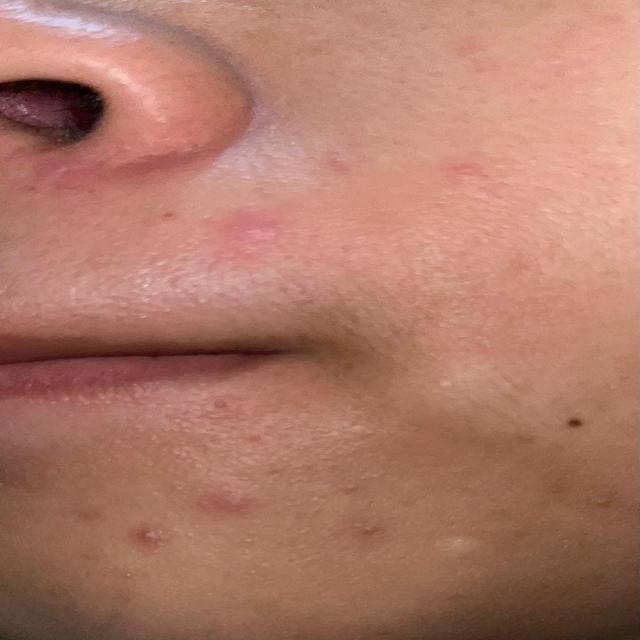papule: (223, 196, 320, 272), (209, 465, 285, 527)
